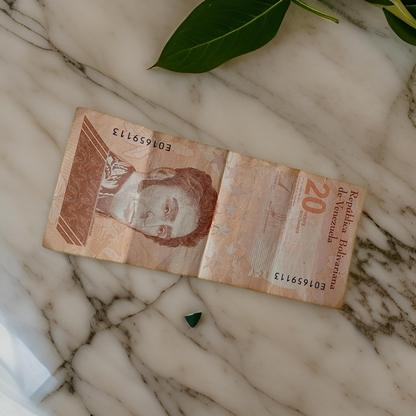vef_front: (46, 106, 374, 309)
